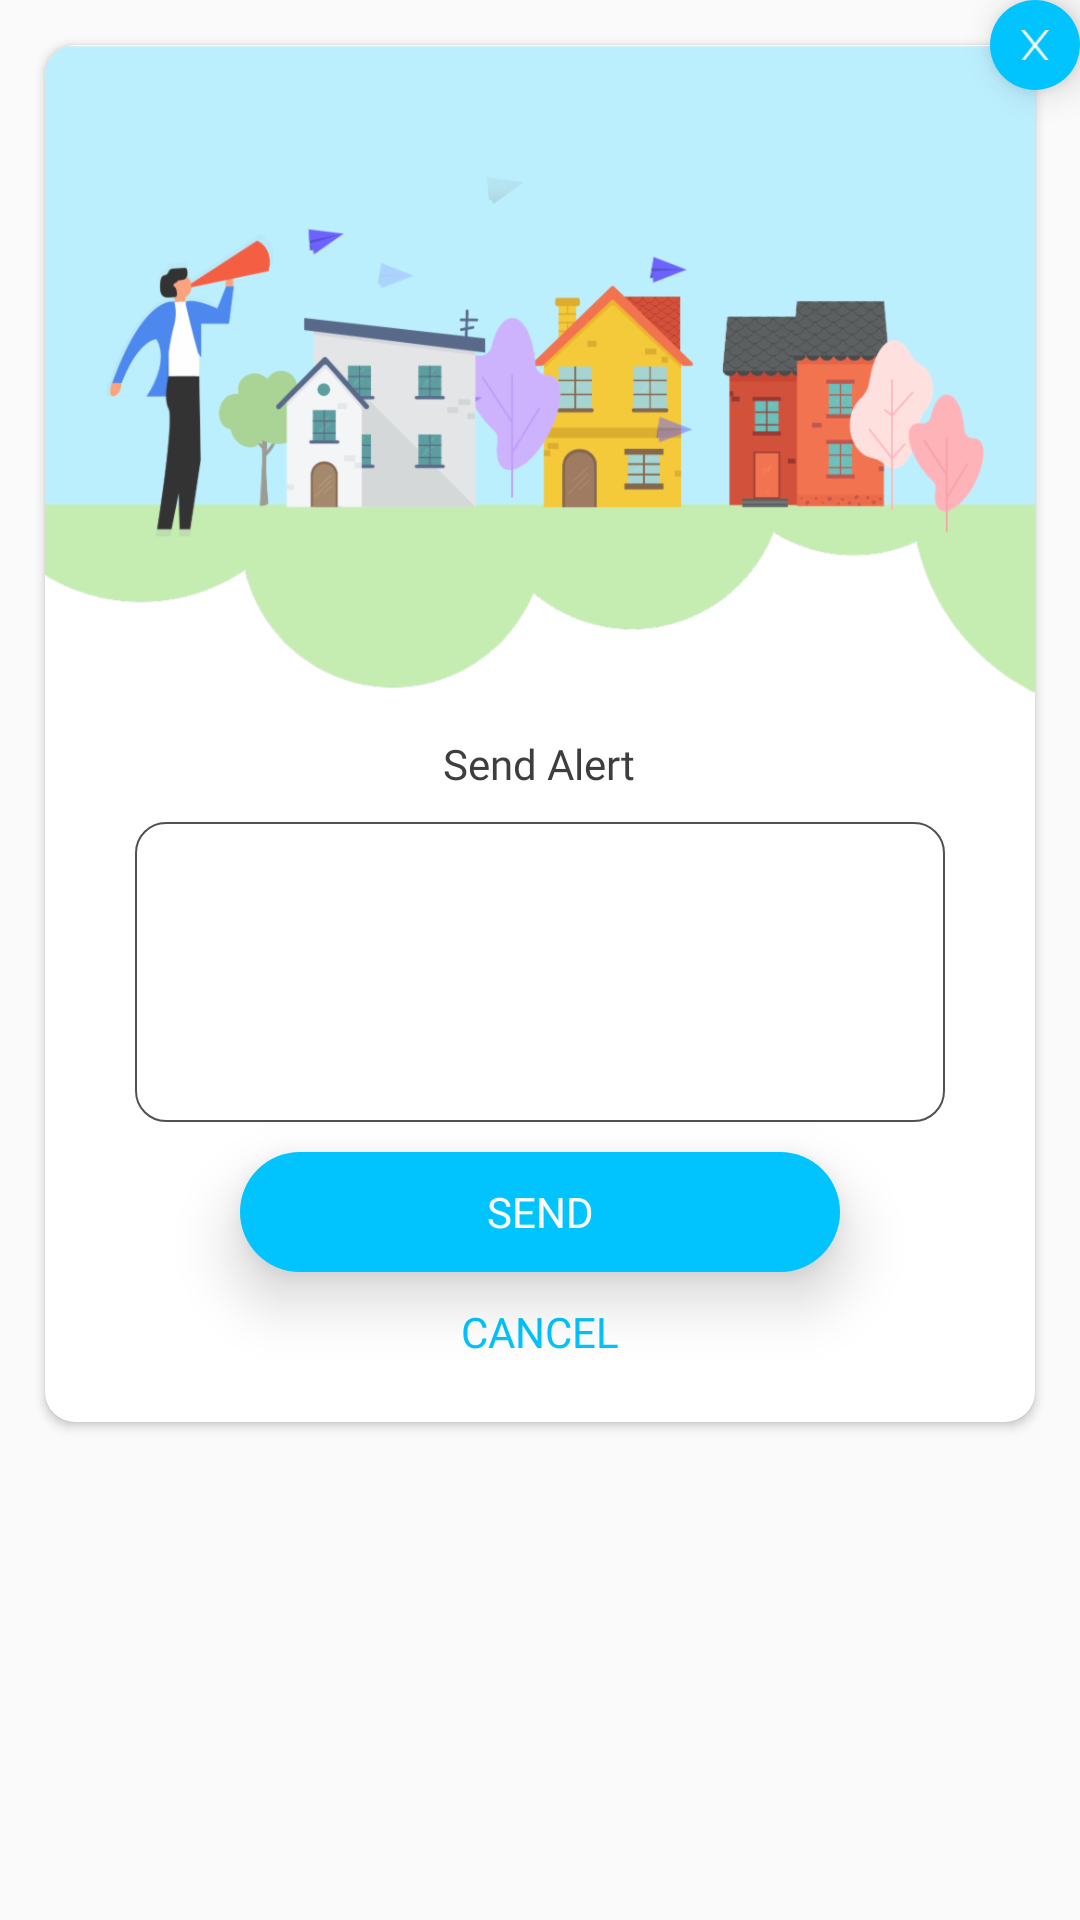

Named icons in this screenshot (1080 × 1920) and their centers, (x,y):
corss: (1035,45)
